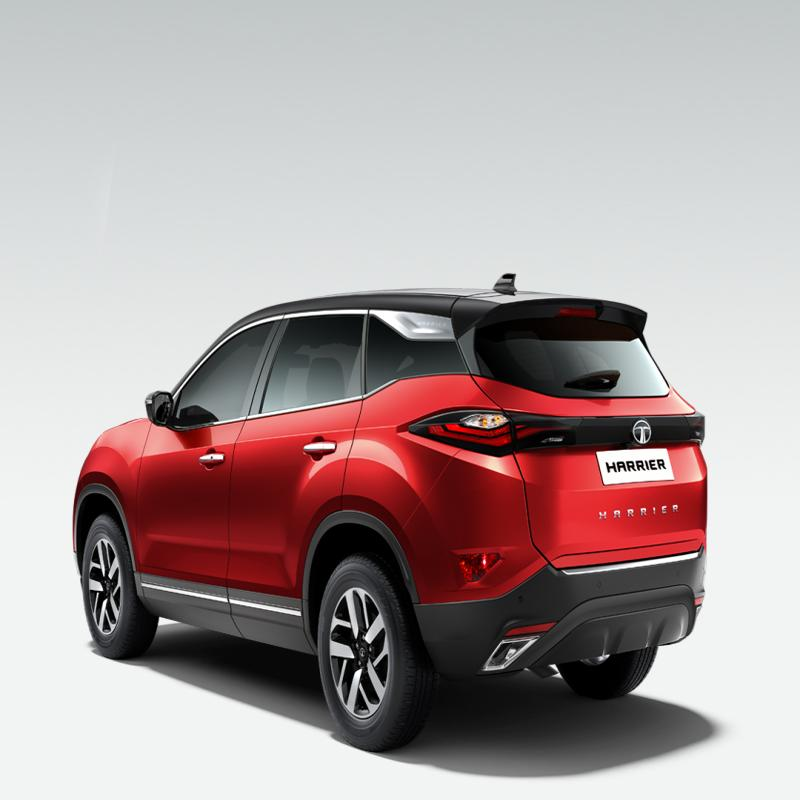car: (59, 267, 720, 745)
